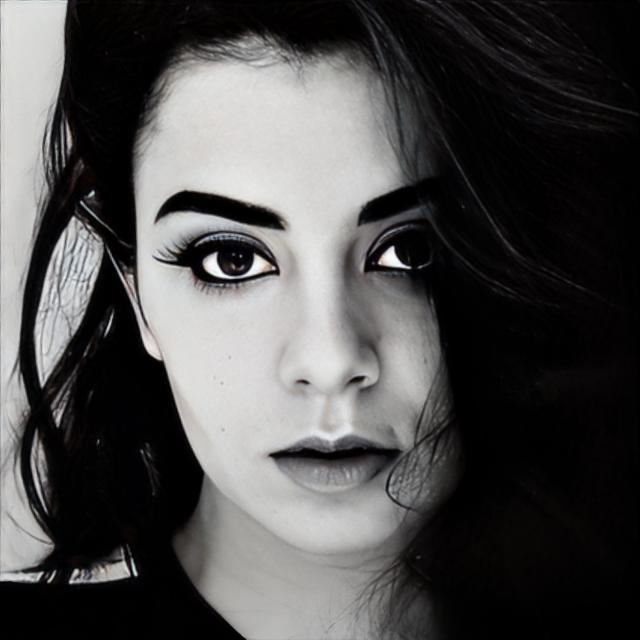neutral: (131, 37, 474, 556)
